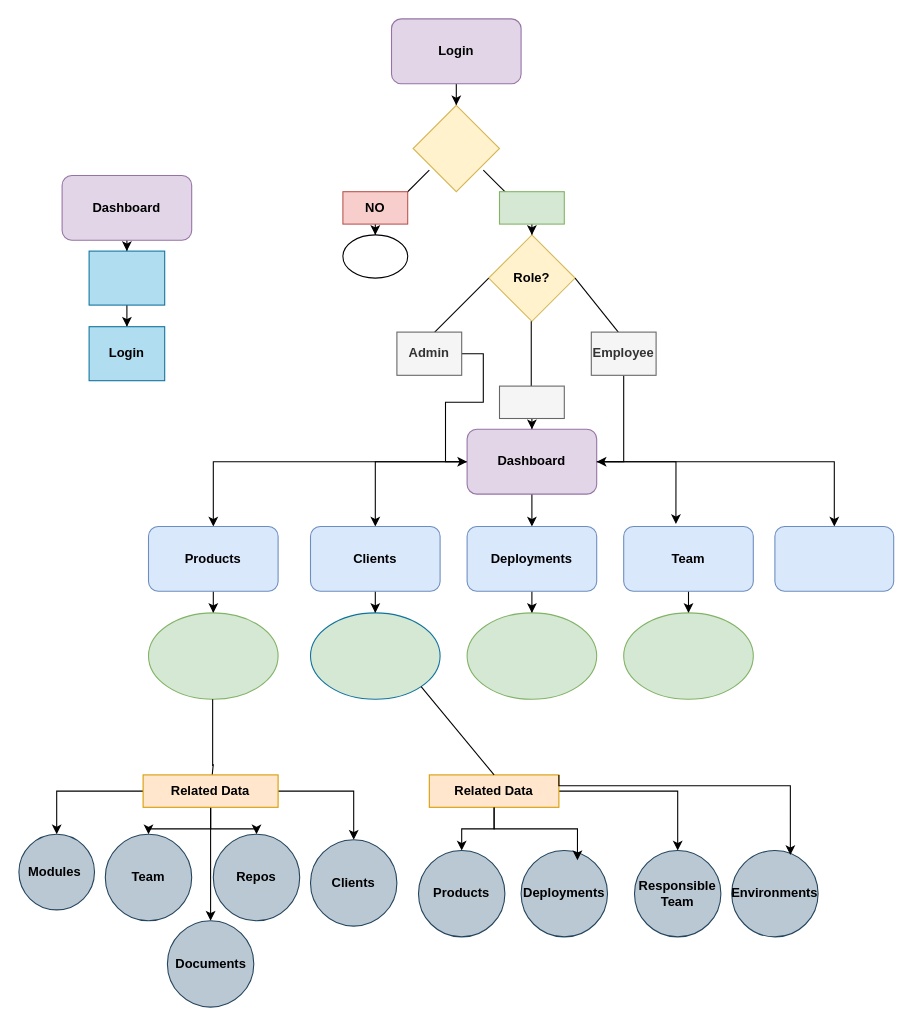
Image size: 913x1026. Some labels were removed from this diagram. The box of each missing label's shape, as (x1, y1, x2, y2) in pixels:
Client Details: (309, 612, 440, 699)
Credentials Valid?: (412, 104, 500, 192)
Deployment Information: (466, 612, 597, 699)
Login Error: (342, 234, 408, 278)
Logout: (88, 250, 165, 305)
Manager: (498, 385, 564, 418)
Product Details: (147, 612, 278, 699)
Team Member Information: (623, 612, 753, 699)
User Management (Admin Only): (774, 525, 894, 591)
YES: (498, 191, 564, 224)
